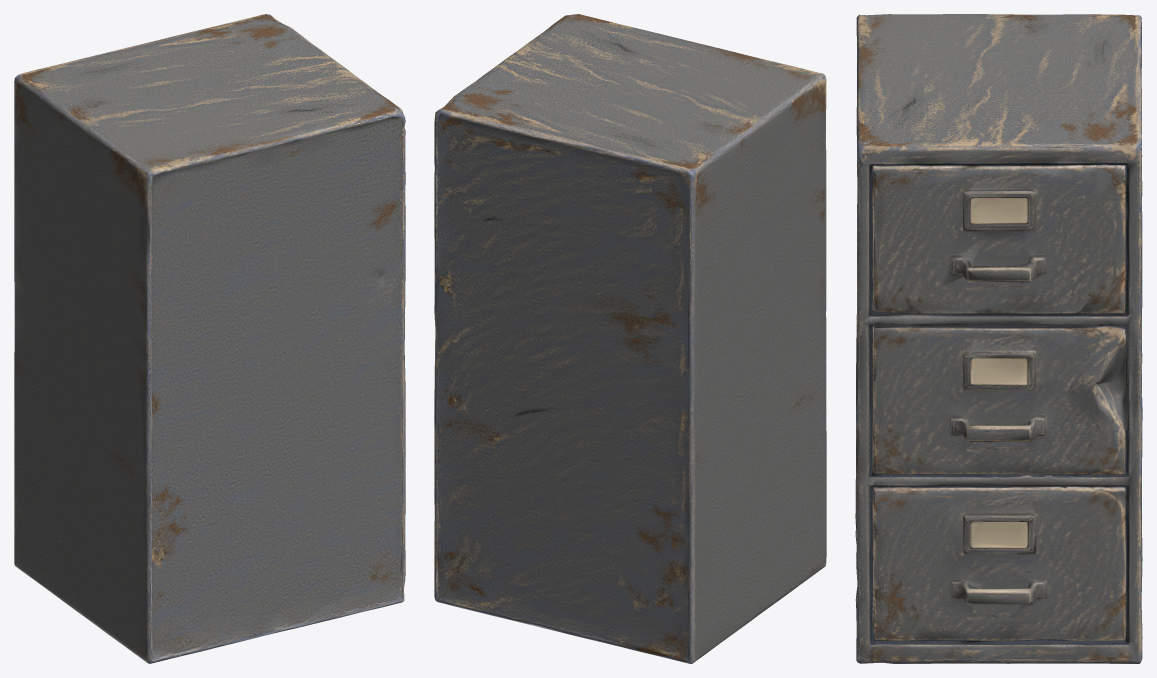
The model's file is FilingCabinet2.fbx.
3 renders of one model, left to right at view 1: azimuth 30°, elevation 25°; view 2: azimuth 150°, elevation 25°; view 3: azimuth 270°, elevation 25°, orthographic. The views are drawn at different scales.
Parts seen in each view (by area): view 1: tripo_node_97b95e39-2cbd-4b5f-9378-6585d609b23f; view 2: tripo_node_97b95e39-2cbd-4b5f-9378-6585d609b23f; view 3: tripo_node_97b95e39-2cbd-4b5f-9378-6585d609b23f.
Part boxes in pixels (<box>): tripo_node_97b95e39-2cbd-4b5f-9378-6585d609b23f: <box>14,14,405,663</box>; tripo_node_97b95e39-2cbd-4b5f-9378-6585d609b23f: <box>434,14,826,663</box>; tripo_node_97b95e39-2cbd-4b5f-9378-6585d609b23f: <box>855,14,1142,663</box>.
Size of the model in its own units: 58.46 by 100 by 49.98.
1 material, 1 textured.
